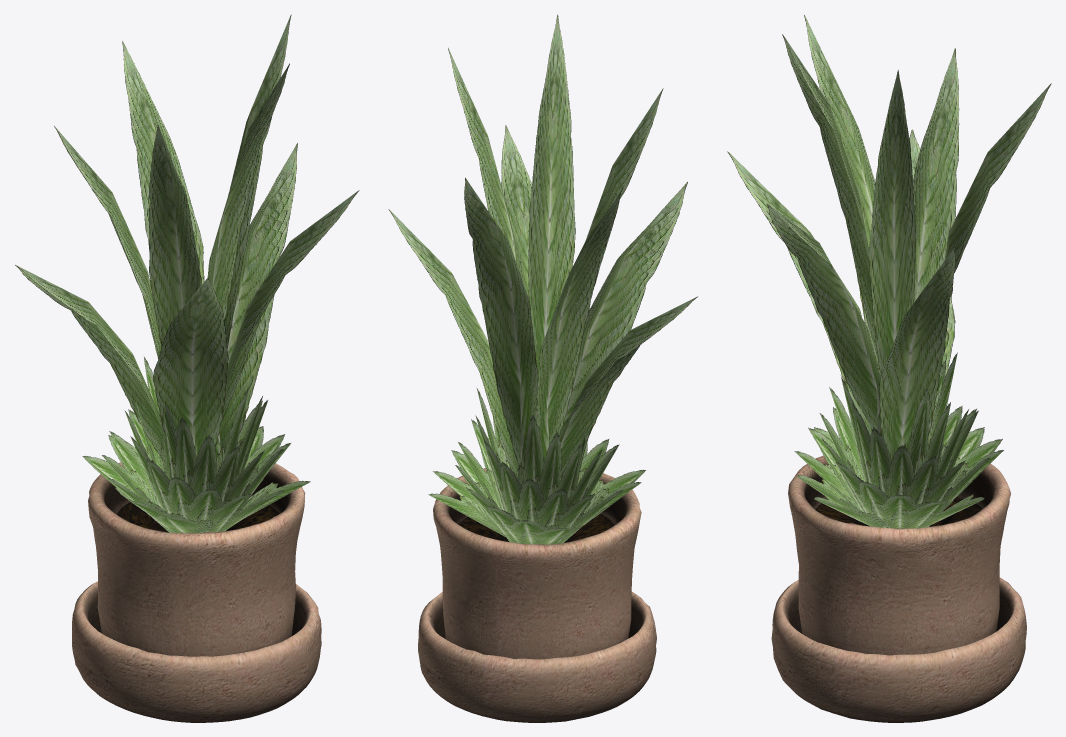
File: indoor_plant.obj
3 renders of one model, left to right at view 1: azimuth 30°, elevation 25°; view 2: azimuth 150°, elevation 25°; view 3: azimuth 270°, elevation 25°, orthographic. The views are drawn at different scales.
Visible parts, largest first — view 1: Low-Poly_Plant_.001_Cube.000, Low-Poly_Plant__Cube.055; view 2: Low-Poly_Plant_.001_Cube.000, Low-Poly_Plant__Cube.055; view 3: Low-Poly_Plant_.001_Cube.000, Low-Poly_Plant__Cube.055.
Part boxes in pixels (left/top/right/bottom): Low-Poly_Plant_.001_Cube.000: left=15, top=14, right=359, bottom=533; Low-Poly_Plant__Cube.055: left=72, top=462, right=321, bottom=722; Low-Poly_Plant_.001_Cube.000: left=388, top=14, right=697, bottom=544; Low-Poly_Plant__Cube.055: left=418, top=468, right=656, bottom=722; Low-Poly_Plant_.001_Cube.000: left=727, top=15, right=1051, bottom=528; Low-Poly_Plant__Cube.055: left=771, top=455, right=1026, bottom=722.
Bounding box in the file's own units: 0.6533 × 1.35 × 0.5929.
Materials: 3 (3 with a texture image).
